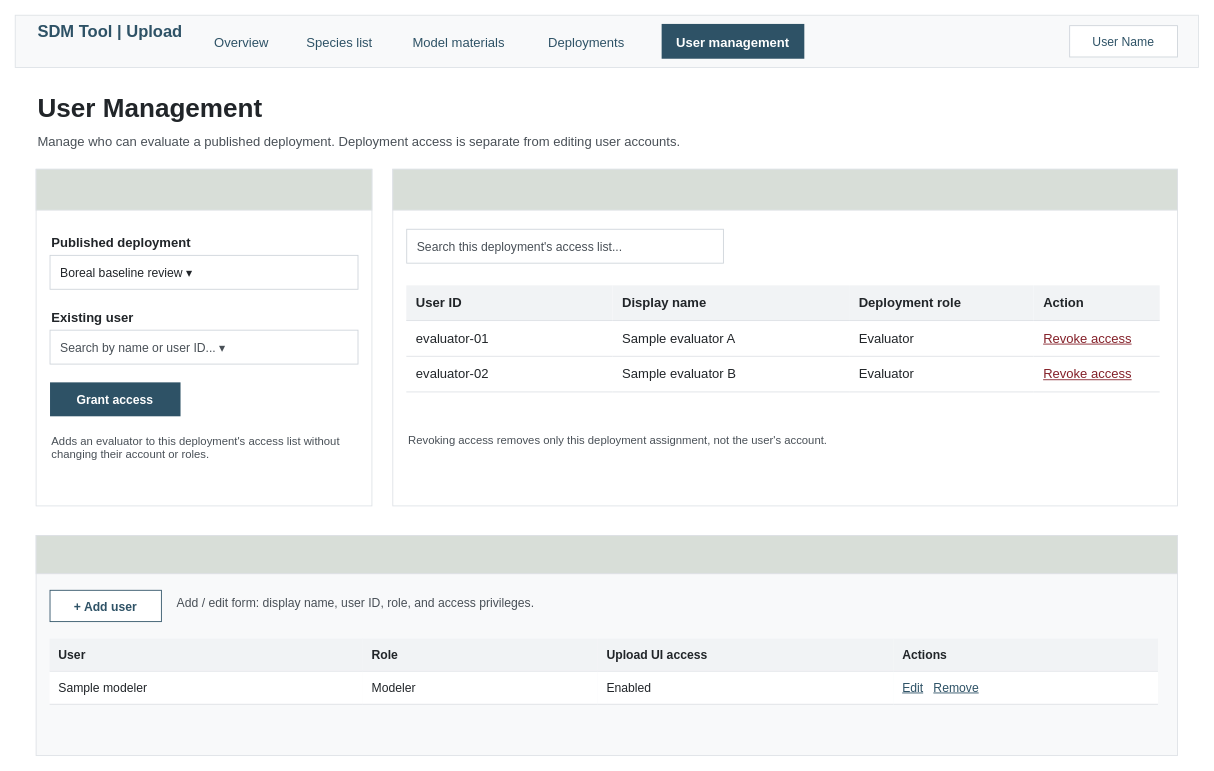
The diagram is 1214 pixels wide and 771 high, and some of its shapes have lost their labels. The shapes that lost their labels are listed below. From the top down, each one's centre as x and y in pixels, then its label:
At point 203,189: "Grant evaluator access".
At point 785,189: "Evaluators with access".
At point 606,554: "Accounts and roles (Admin only)".
